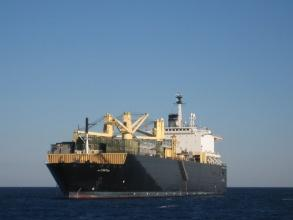Cargoship: (46, 91, 230, 196)
